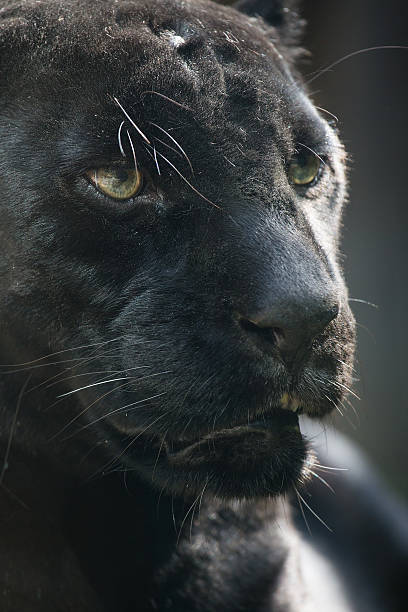panther: (3, 3, 403, 541)
